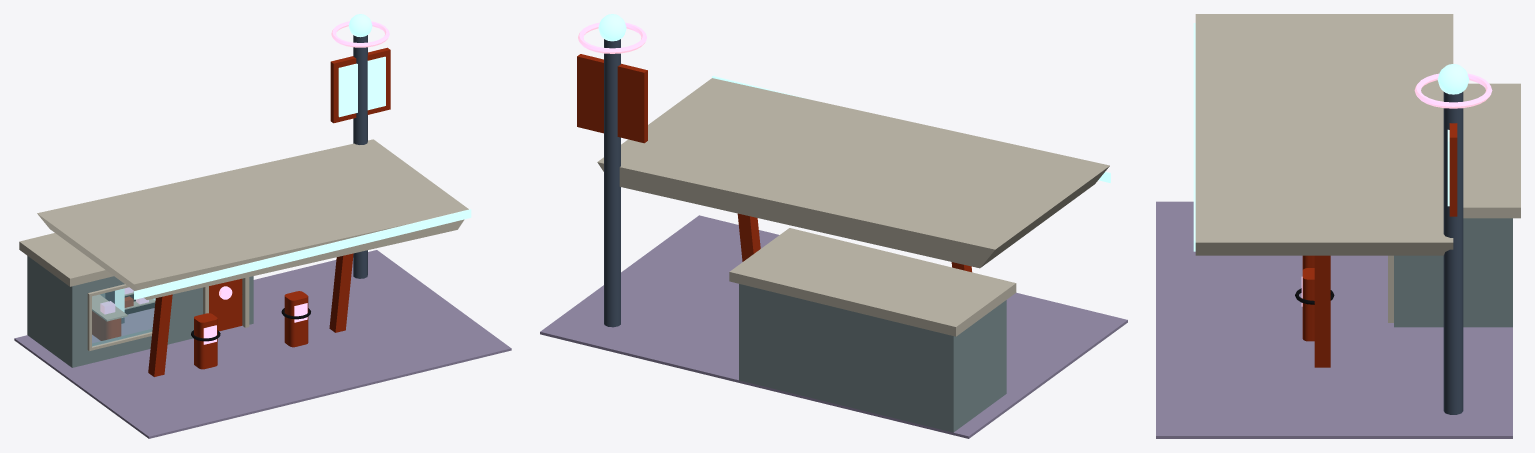
Rendered from charge_stop.glb.
The picture shows the model from 3 angles, left to right: view 1: azimuth 30°, elevation 25°; view 2: azimuth 150°, elevation 25°; view 3: azimuth 270°, elevation 25°; orthographic projection. The views are drawn at different scales.
Parts seen in each view (by area): view 1: charge_stop, door_shop_leaf; view 2: charge_stop; view 3: charge_stop.
Boxes of the visible parts, x1,y1,x2,y2 form: charge_stop: (14,14,511,438); door_shop_leaf: (209,278,242,331); charge_stop: (540,14,1127,438); charge_stop: (1156,14,1520,438).
Bounding box in the file's own units: 14 × 9.7 × 9.2.
